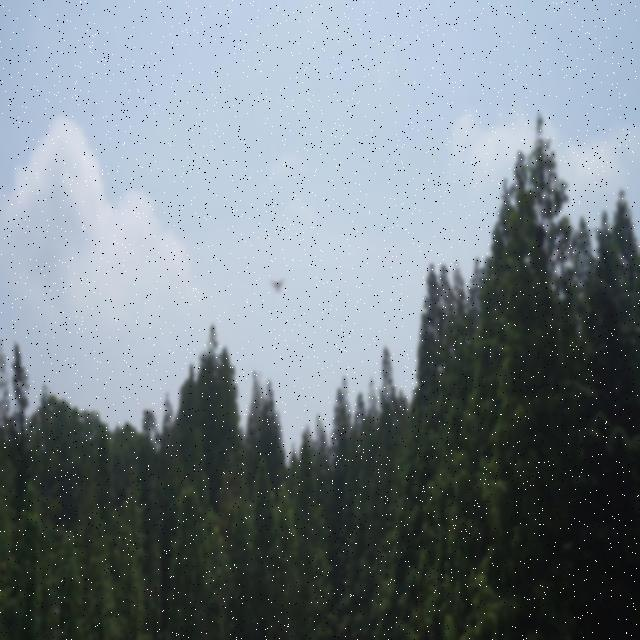UAV: (269, 278, 286, 294)
